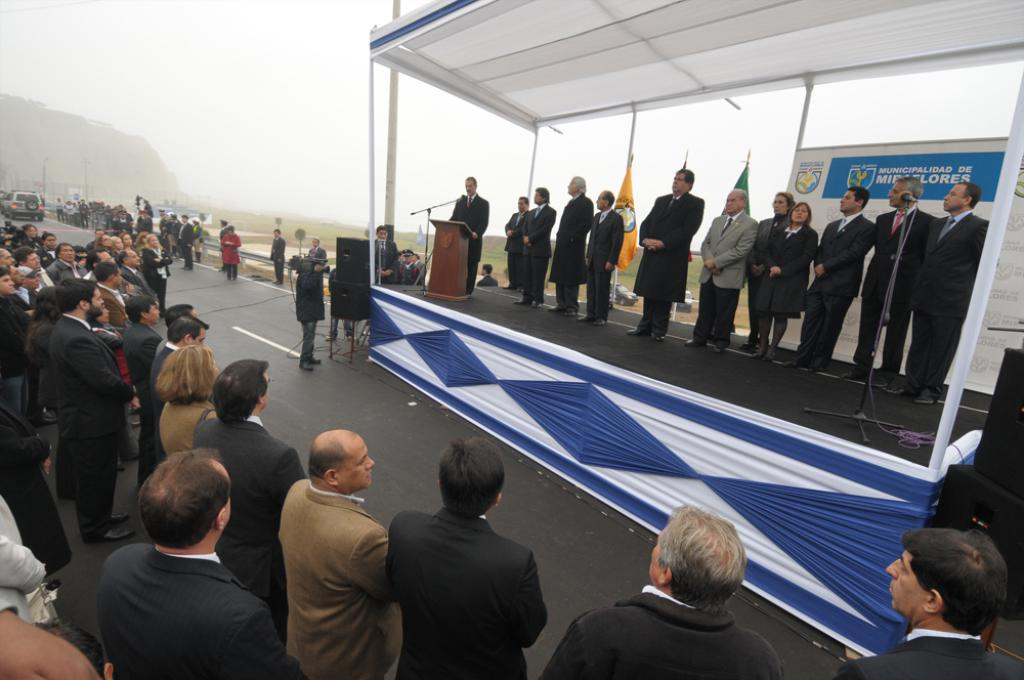Car: (1, 190, 45, 221)
